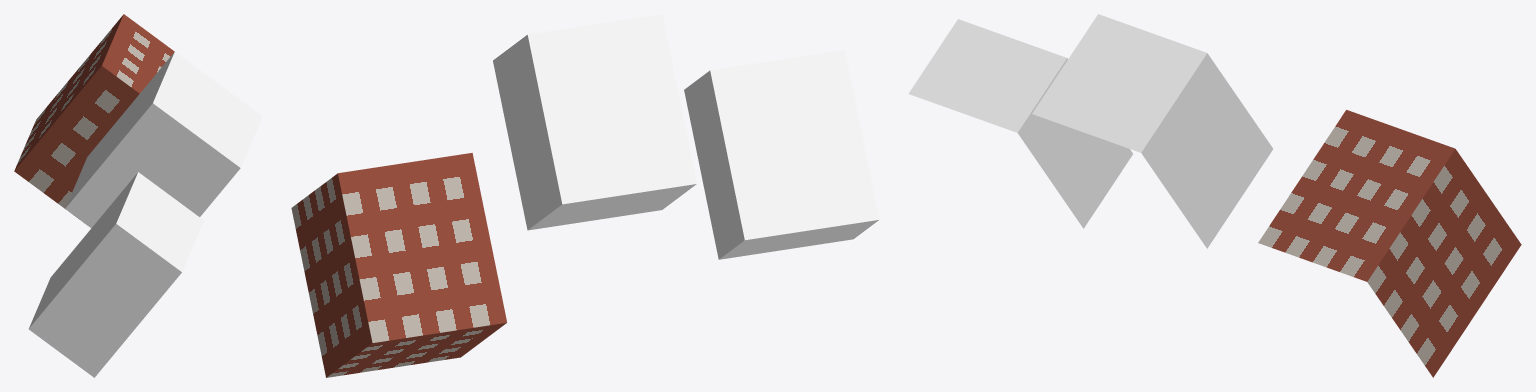
The model's file is plateau-asakusa.glb.
3 renders of one model, left to right at view 1: azimuth 30°, elevation 25°; view 2: azimuth 150°, elevation 25°; view 3: azimuth 270°, elevation 25°, orthographic. The views are drawn at different scales.
Size of the model in its own units: 91.15 by 59.05 by 116.
Materials: 2 (1 with a texture image).
